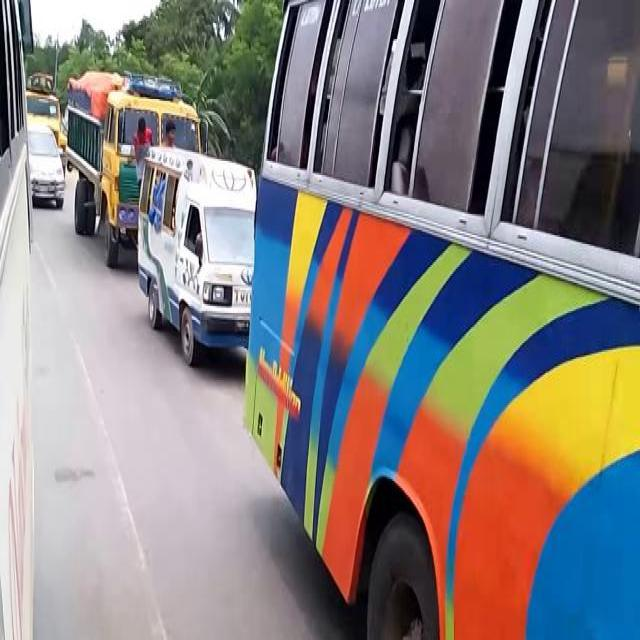bus: (242, 7, 636, 635)
minivan: (134, 144, 256, 369)
suv: (27, 119, 65, 205)
truck: (65, 66, 207, 268), (25, 69, 61, 141)
